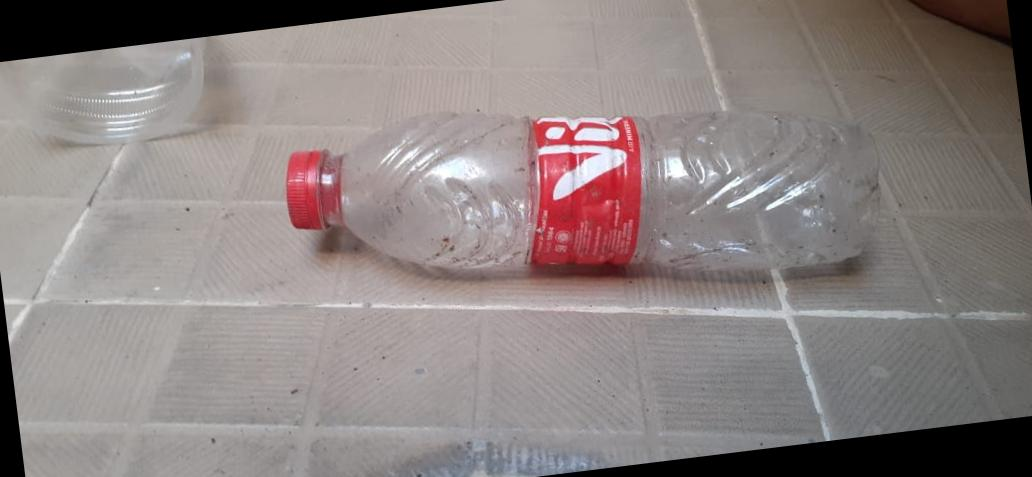Plastik: (279, 54, 892, 330)
